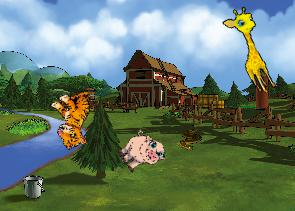giraffe: (219, 3, 287, 97)
pig: (113, 125, 169, 179)
tiger: (44, 85, 105, 151)
